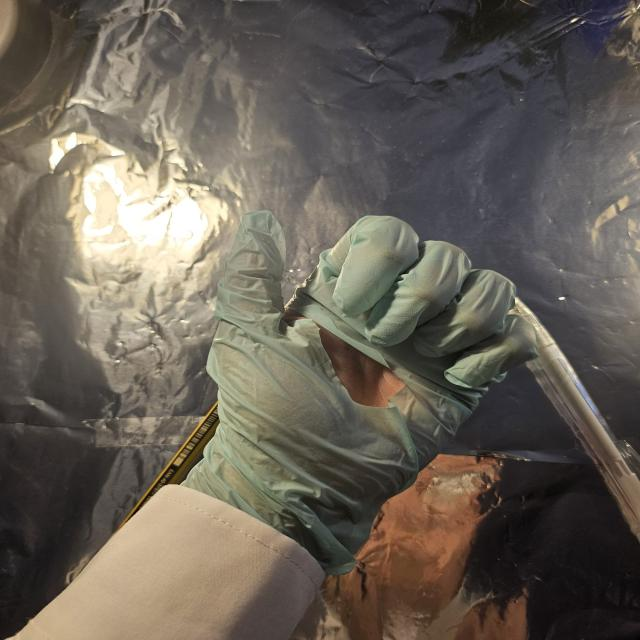gloves_damaged: (181, 205, 544, 573)
